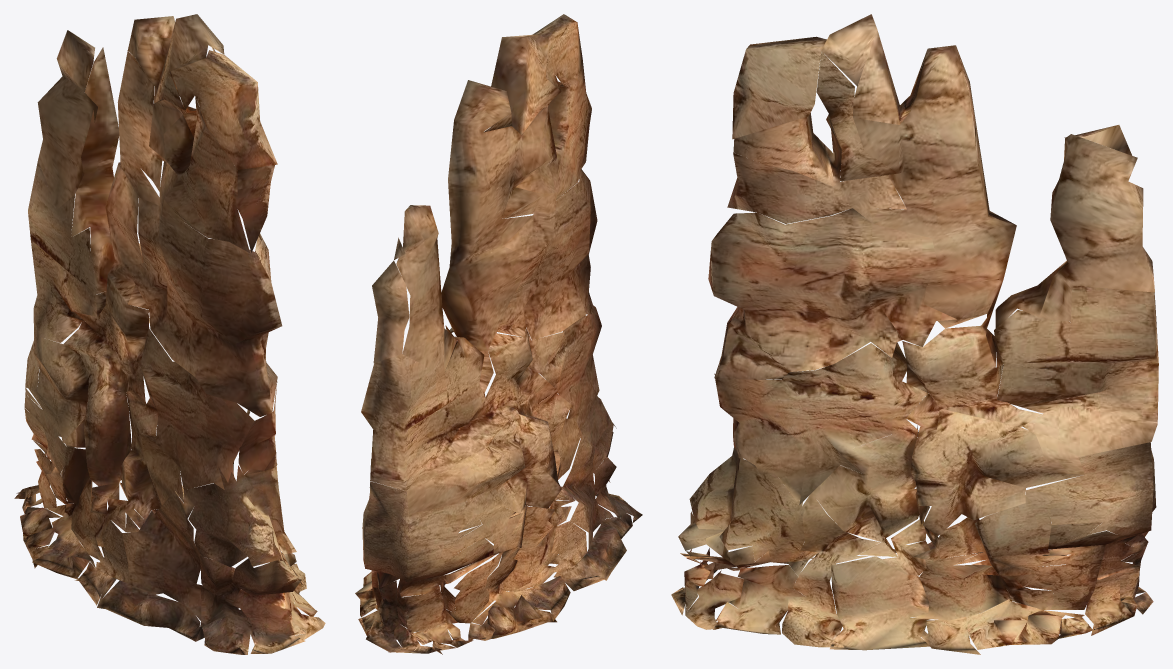
Rendered from rock_pillar.glb.
The picture shows the model from 3 angles, left to right: view 1: azimuth 30°, elevation 25°; view 2: azimuth 150°, elevation 25°; view 3: azimuth 270°, elevation 25°; orthographic projection. The views are drawn at different scales.
Visible parts, largest first — view 1: tripo_node_d6747997-e1d4-4596-8194-1b2d9c3474f0; view 2: tripo_node_d6747997-e1d4-4596-8194-1b2d9c3474f0; view 3: tripo_node_d6747997-e1d4-4596-8194-1b2d9c3474f0.
Boxes of the visible parts, x1=… form: tripo_node_d6747997-e1d4-4596-8194-1b2d9c3474f0: x1=14, y1=14, x2=325, y2=654; tripo_node_d6747997-e1d4-4596-8194-1b2d9c3474f0: x1=355, y1=14, x2=642, y2=654; tripo_node_d6747997-e1d4-4596-8194-1b2d9c3474f0: x1=671, y1=14, x2=1158, y2=654.
Bounding box in the file's own units: 0.371 × 0.9993 × 0.7531.
Materials: 1 (1 with a texture image).
